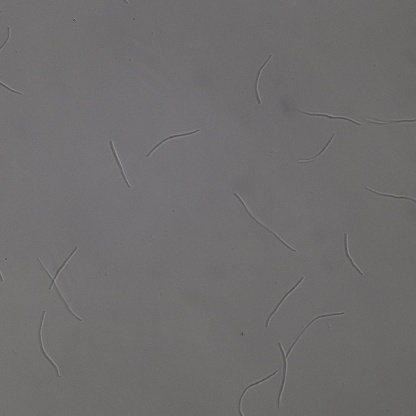Sensitive: (275, 313, 343, 408), (236, 193, 293, 249), (38, 244, 79, 320), (233, 371, 275, 416), (266, 275, 303, 326), (35, 311, 59, 376), (147, 128, 202, 156), (365, 186, 416, 208), (296, 110, 361, 127), (253, 55, 275, 104), (298, 134, 334, 163), (342, 233, 362, 273), (111, 141, 128, 187)
